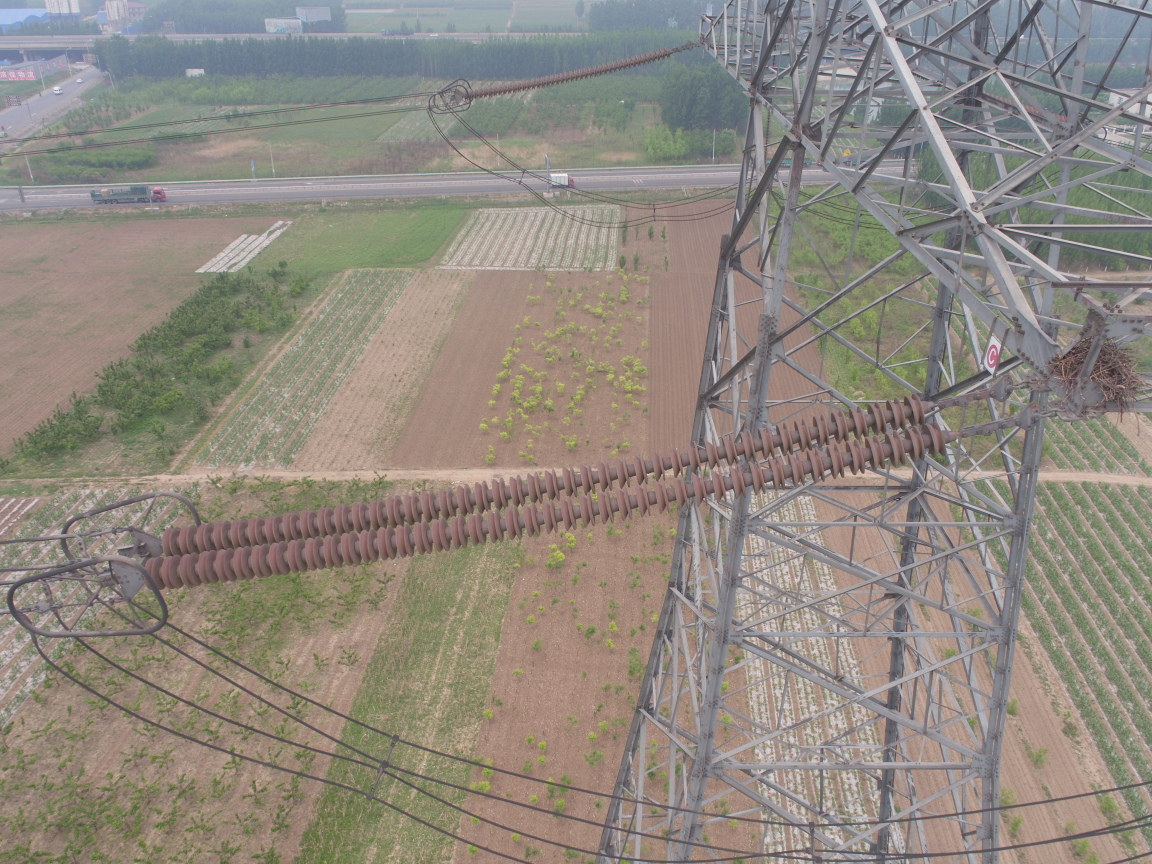insulator: (132, 390, 991, 595), (460, 46, 681, 102)
